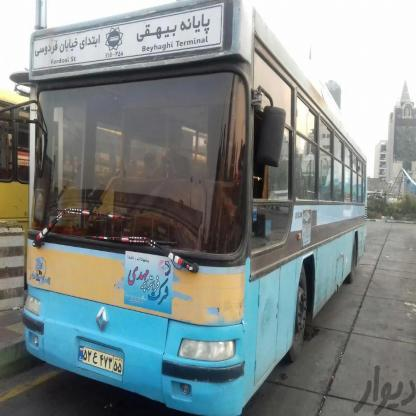Bus: (14, 0, 371, 416), (0, 113, 149, 224)
